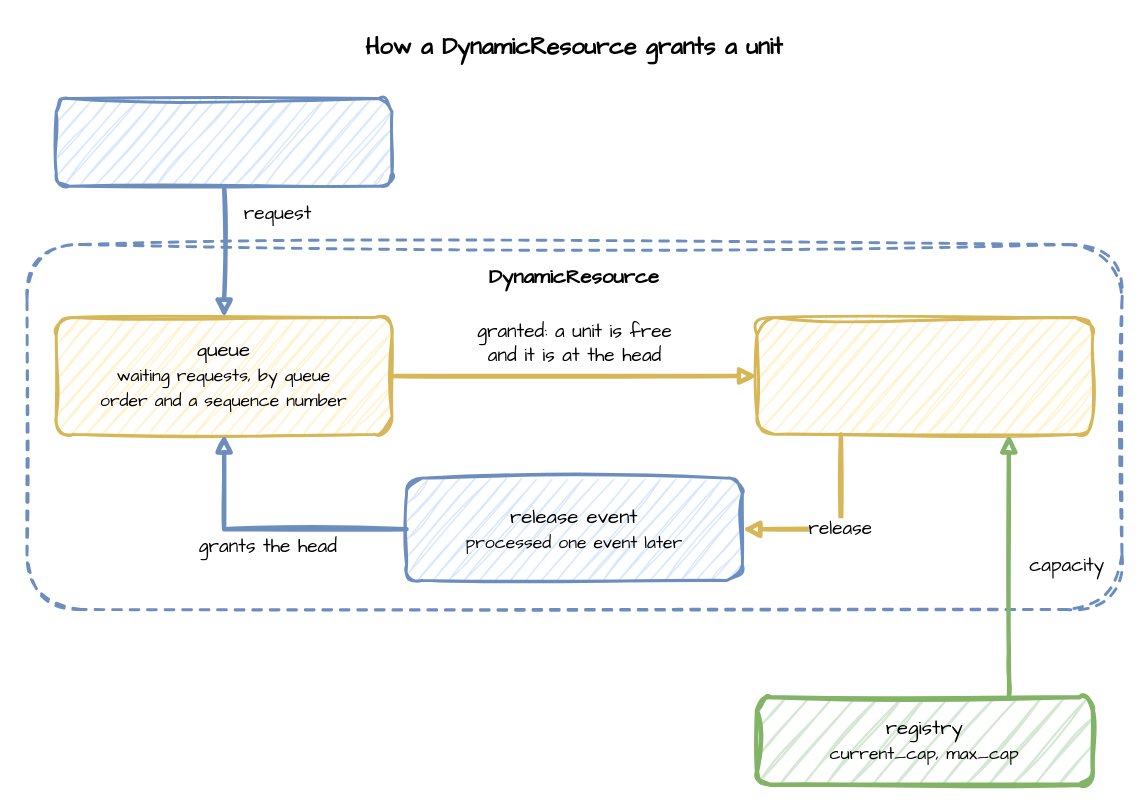
The diagram is 1148 pixels wide and 812 high, and some of its shapes have lost their labels. Here are the shapes that lost their labels. From the top down, the centre of each, then its label:
At (x=223, y=141): "task".
At (x=924, y=375): "users granted requests, at most capacity of them".
